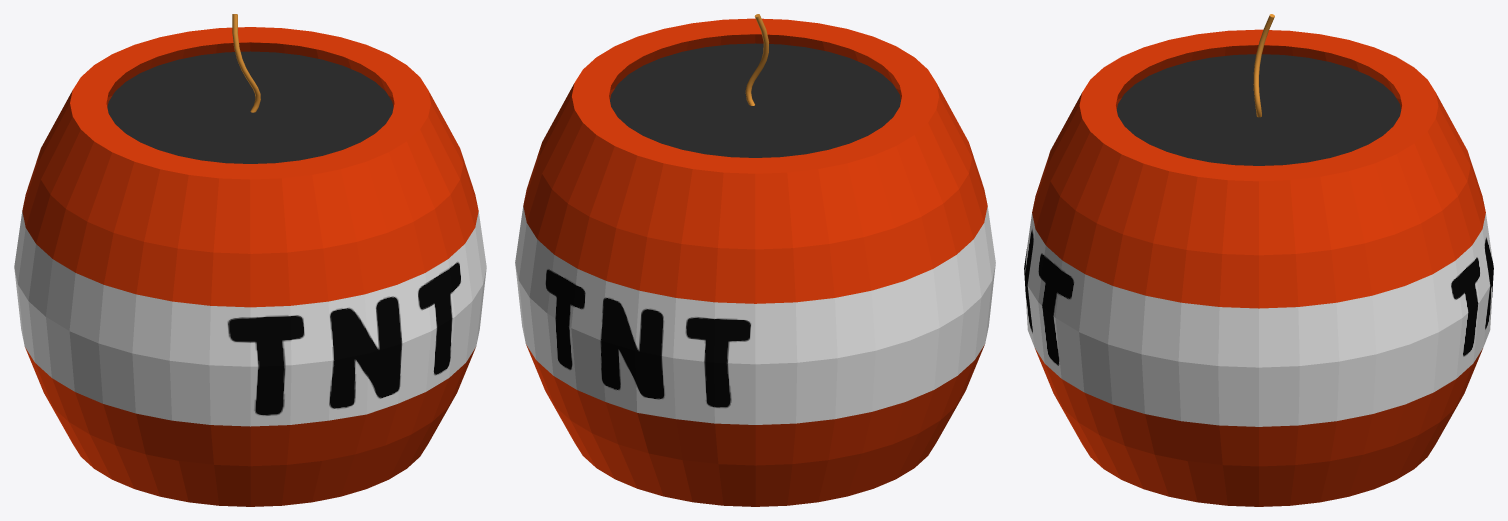
The model's file is TNT_bure.fbx.
3 views of the same model, side by side, from view 1: azimuth 30°, elevation 25°; view 2: azimuth 150°, elevation 25°; view 3: azimuth 270°, elevation 25° (orthographic). The views are drawn at different scales.
Visible parts, largest first — view 1: Cylinder.001, BezierCurve.001; view 2: Cylinder.001, BezierCurve.001; view 3: Cylinder.001, BezierCurve.001.
Boxes of the visible parts, box(x1,y1,x2,y2) form: Cylinder.001: box(14, 27, 486, 506); BezierCurve.001: box(232, 14, 260, 112); Cylinder.001: box(515, 18, 995, 506); BezierCurve.001: box(745, 14, 768, 105); Cylinder.001: box(1024, 29, 1493, 506); BezierCurve.001: box(1253, 14, 1274, 117).
Bounding box in the file's own units: 207 × 200 × 207.
4 materials, 1 textured.
